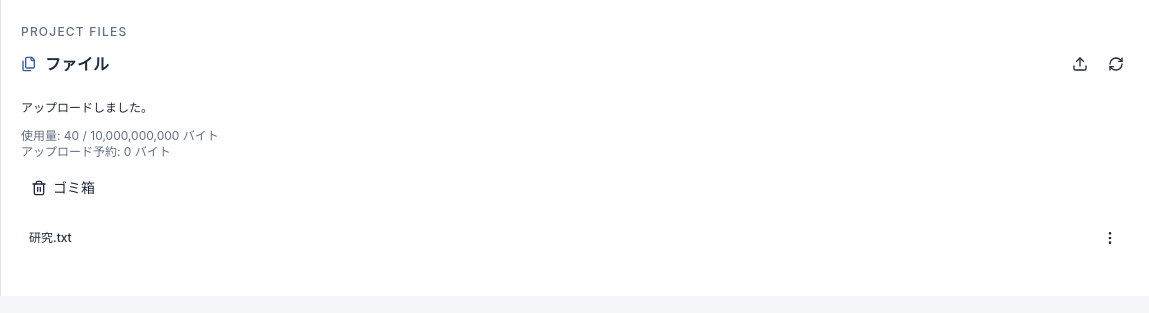
Scenario: TEST-FTB-001 places upload/reload icons beside the heading and retains picker, retry and disabled behavior
Earlier steps of the test are not shown.
Later steps or results of the test are not shown.
Click the button named "ファイル一覧を再読み込み".
click(1116, 64)  # box [1100,48,1132,80]
Click the button "ゴミ箱".
click(63, 188)  # box [21,172,105,204]
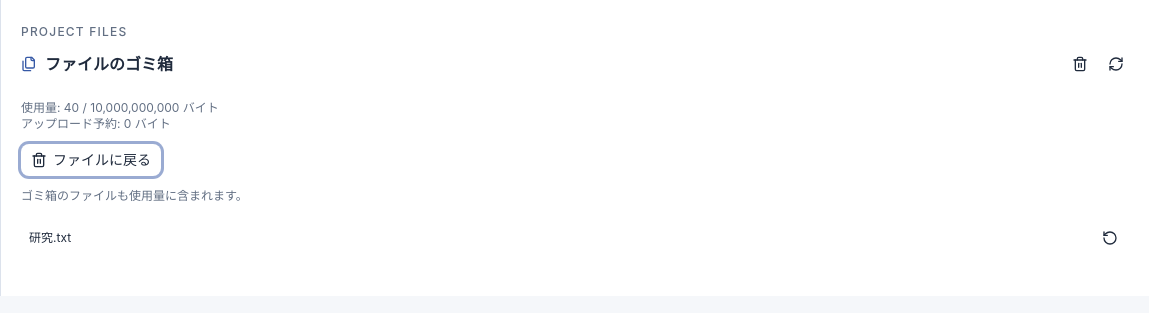
Expected: the button named "ごみ箱を空にする" is enabled, [1064,48,1096,80]
Now the button named "ファイルを復元: 研究.txt" is shown, box [1096,224,1124,252]
Now the button "ファイルをアップロード" is gone
